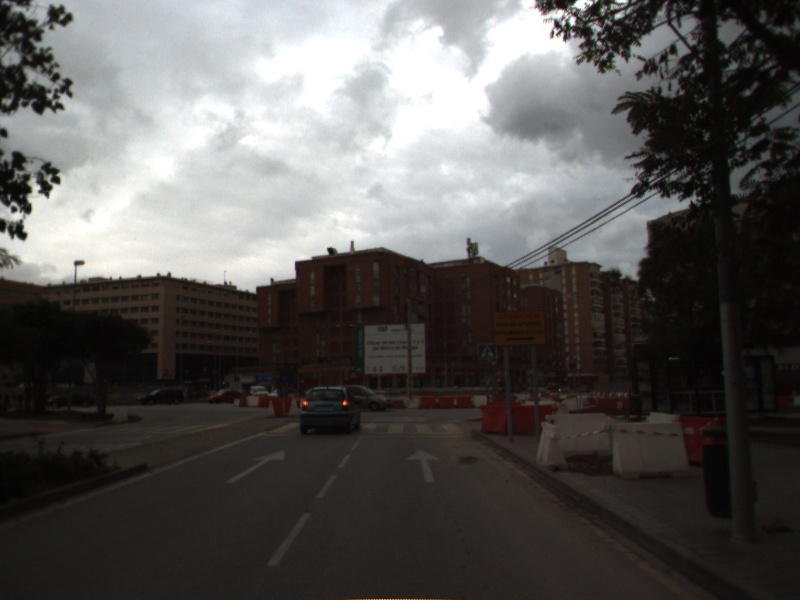STRAIGHT: (223, 447, 287, 485), (404, 447, 444, 484)
